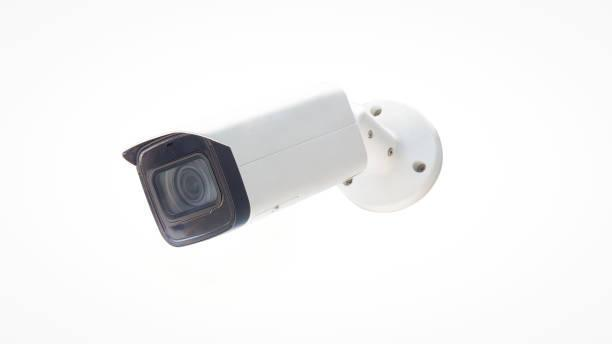camera: (89, 67, 391, 277)
